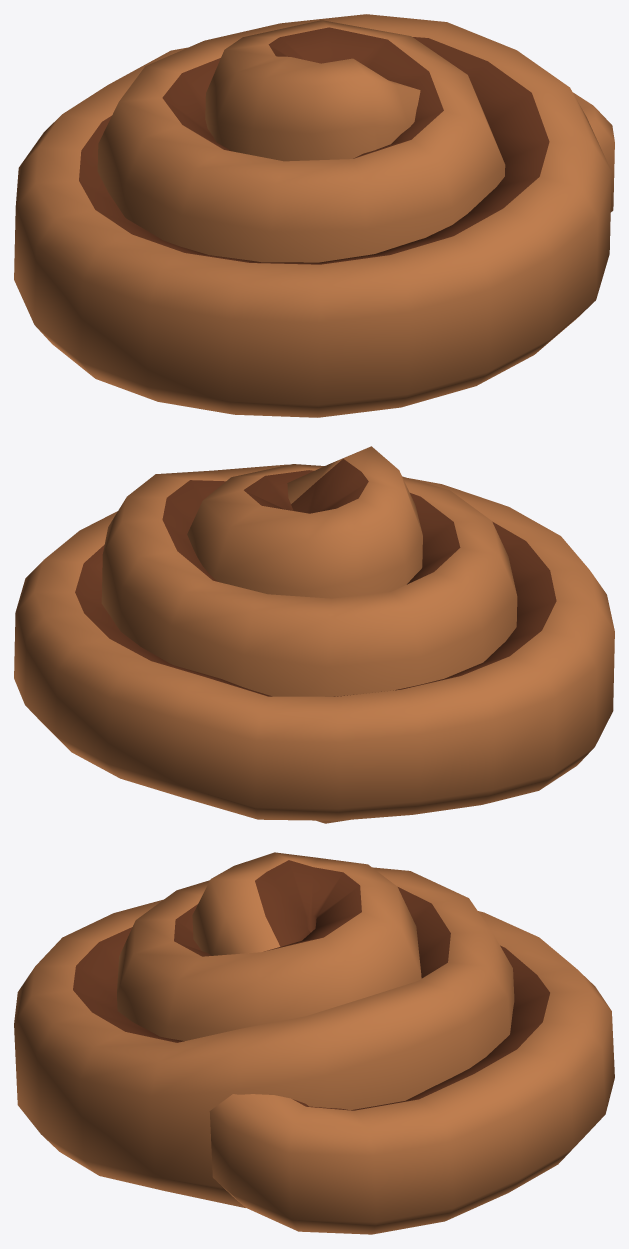
File: CinnamonRoll_01.fbx
3 views of the same model, one above another, from view 1: azimuth 30°, elevation 25°; view 2: azimuth 150°, elevation 25°; view 3: azimuth 270°, elevation 25° (orthographic). The views are drawn at different scales.
Visible parts, largest first — view 1: CinnamonRoll_01; view 2: CinnamonRoll_01; view 3: CinnamonRoll_01.
Boxes of the visible parts, bbox=[...] form: CinnamonRoll_01: bbox=[14, 14, 614, 417]; CinnamonRoll_01: bbox=[14, 446, 614, 823]; CinnamonRoll_01: bbox=[14, 852, 614, 1234].
Bounding box in the file's own units: 0.1595 × 0.0778 × 0.1569.
